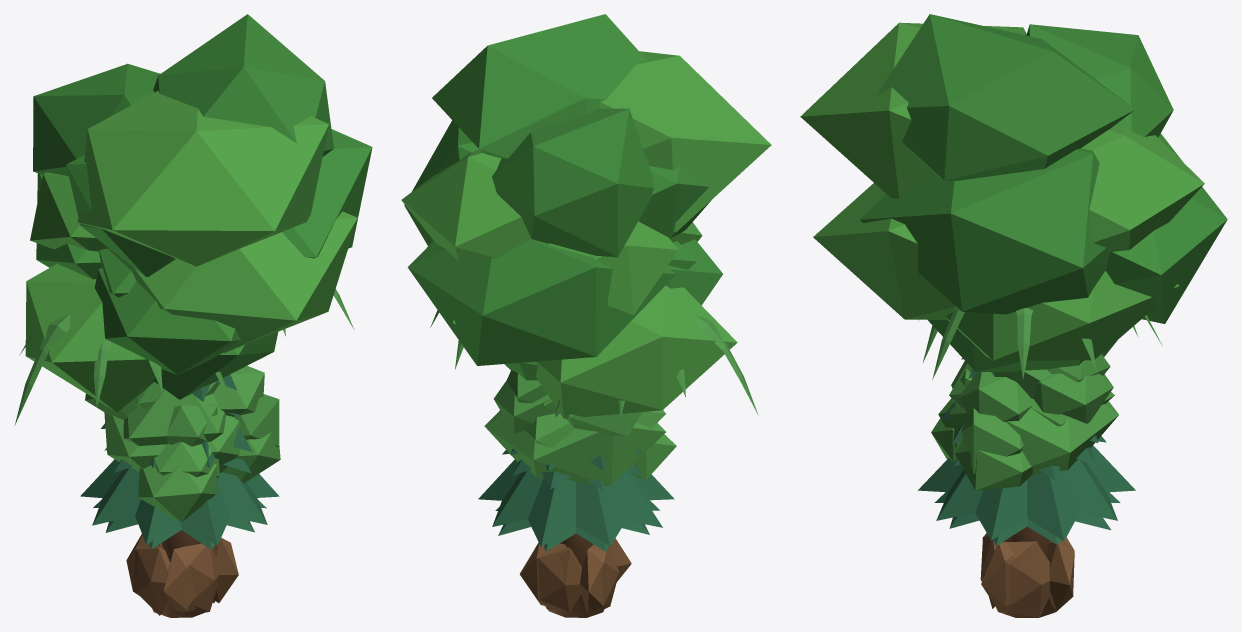
The model's file is Trees.fbx.
3 views of the same model, side by side, from view 1: azimuth 30°, elevation 25°; view 2: azimuth 150°, elevation 25°; view 3: azimuth 270°, elevation 25° (orthographic). The views are drawn at different scales.
Visible parts, largest first — view 1: Jungle_C_Crown, Jungle_B_Crown, Jungle_A_Crown, Pine_A_Needles, Tree_C_Crown, Tree_A_Crown, Tree_B_Crown, Jungle_A_Trunk, Jungle_C_Trunk, Palm_A_Crown, Pine_B_Needles; view 2: Jungle_C_Crown, Jungle_A_Crown, Jungle_B_Crown, Tree_C_Crown, Pine_A_Needles, Jungle_C_Trunk, Tree_A_Crown, Jungle_A_Trunk, Pine_B_Needles, Jungle_B_Trunk, Palm_A_Crown; view 3: Jungle_C_Crown, Jungle_B_Crown, Jungle_A_Crown, Tree_C_Crown, Pine_A_Needles, Tree_A_Crown, Jungle_C_Trunk, Tree_B_Crown, Jungle_A_Trunk, Pine_B_Needles, Palm_B_Crown, Jungle_B_Trunk.
Boxes of the visible parts, box(x1,y1,x2,y2) form: Jungle_C_Crown: box(33, 14, 333, 266); Jungle_B_Crown: box(30, 129, 372, 352); Jungle_A_Crown: box(25, 173, 278, 412); Pine_A_Needles: box(80, 374, 279, 545); Tree_C_Crown: box(85, 393, 280, 522); Tree_A_Crown: box(123, 389, 279, 477); Tree_B_Crown: box(135, 365, 264, 446); Jungle_A_Trunk: box(136, 543, 219, 617); Jungle_C_Trunk: box(126, 530, 238, 617); Palm_A_Crown: box(14, 314, 233, 425); Pine_B_Needles: box(93, 412, 266, 549); Jungle_C_Crown: box(401, 14, 771, 261); Jungle_A_Crown: box(407, 239, 737, 418); Jungle_B_Crown: box(404, 120, 711, 315); Tree_C_Crown: box(484, 381, 676, 485); Pine_A_Needles: box(478, 406, 674, 546); Jungle_C_Trunk: box(519, 533, 631, 617); Tree_A_Crown: box(506, 370, 665, 447); Jungle_A_Trunk: box(545, 546, 619, 617); Pine_B_Needles: box(495, 412, 659, 551); Jungle_B_Trunk: box(538, 545, 604, 617); Palm_A_Crown: box(554, 315, 758, 418); Jungle_C_Crown: box(800, 14, 1204, 252); Jungle_B_Crown: box(813, 148, 1109, 319); Jungle_A_Crown: box(927, 133, 1227, 371); Tree_C_Crown: box(931, 373, 1118, 490); Pine_A_Needles: box(918, 358, 1135, 541); Tree_A_Crown: box(938, 354, 1114, 474); Jungle_C_Trunk: box(980, 526, 1074, 617); Tree_B_Crown: box(951, 361, 1050, 421); Jungle_A_Trunk: box(982, 534, 1056, 617); Pine_B_Needles: box(934, 436, 1120, 545); Palm_B_Crown: box(918, 306, 1162, 379); Jungle_B_Trunk: box(982, 533, 1074, 617).
Size of the model in its own units: 6.58 by 10.73 by 6.93.
